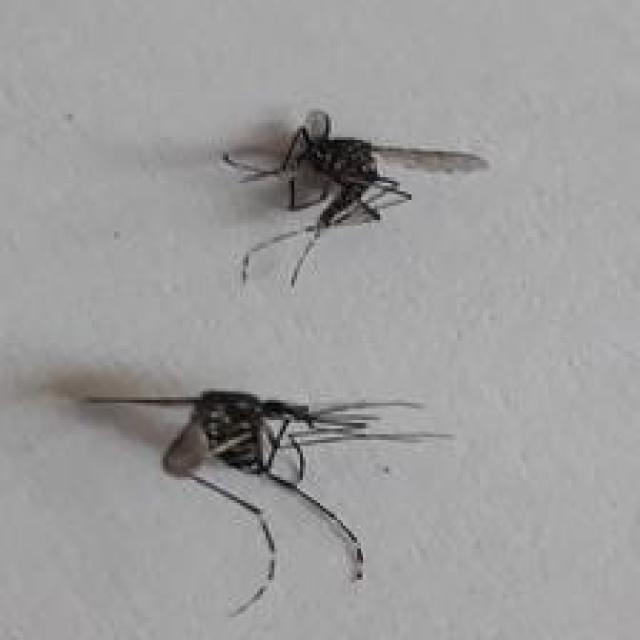Aedes albopictus: (83, 386, 454, 617)
